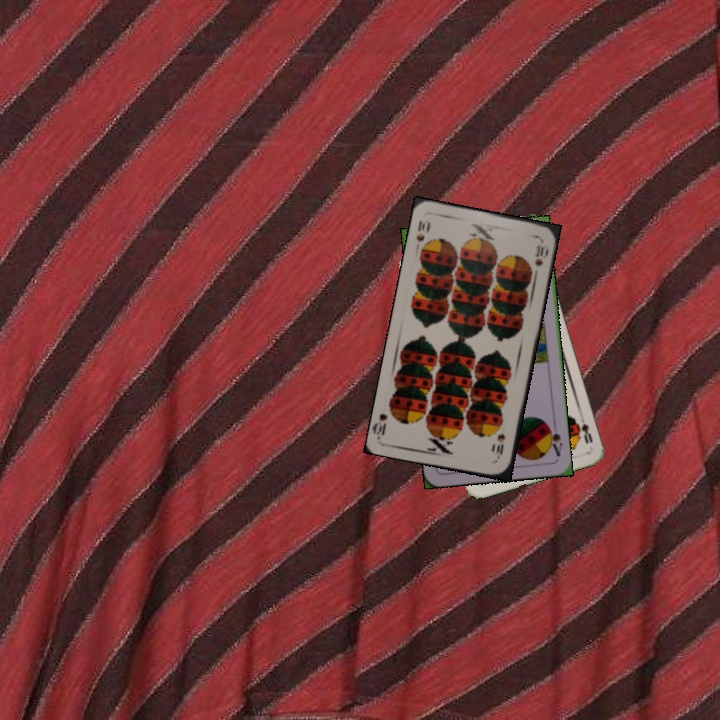S10: (412, 216, 433, 254), (492, 429, 508, 462)
SA: (544, 419, 565, 459)
SO: (574, 409, 595, 447)
